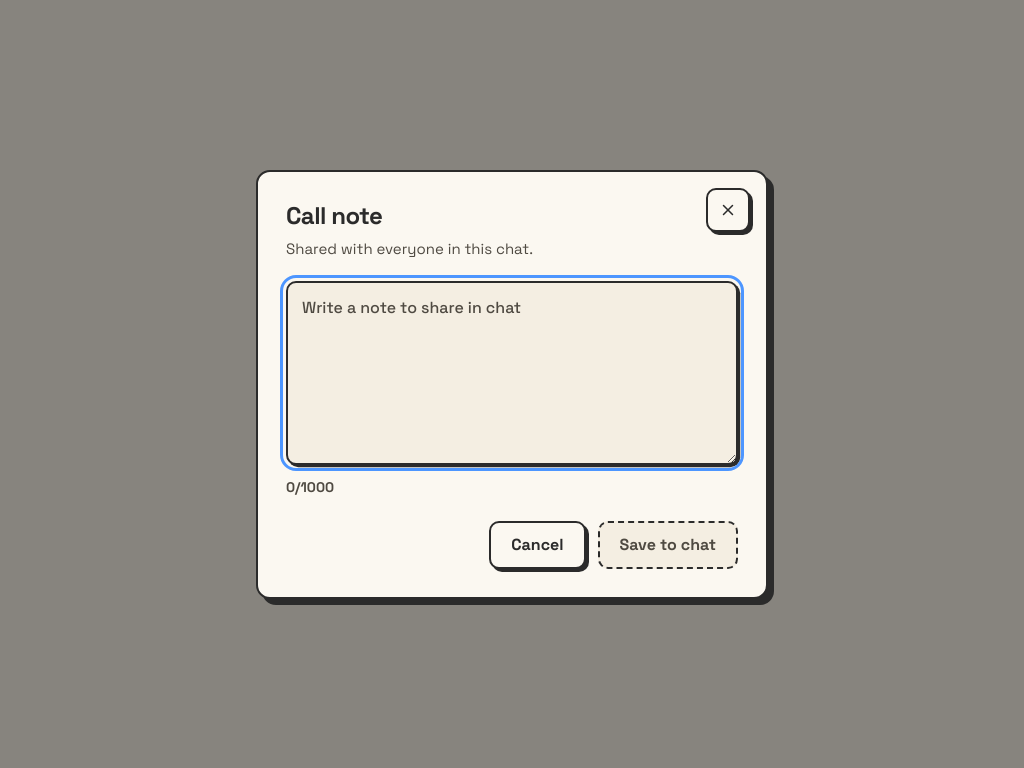
Test: CallNotePad › reports a failed save and keeps the text
The width and height of the screenshot is (1024, 768).
Type "keep me" into the text box labelled "note" at (512, 372), box top-left (286, 280), bottom-right (738, 464)
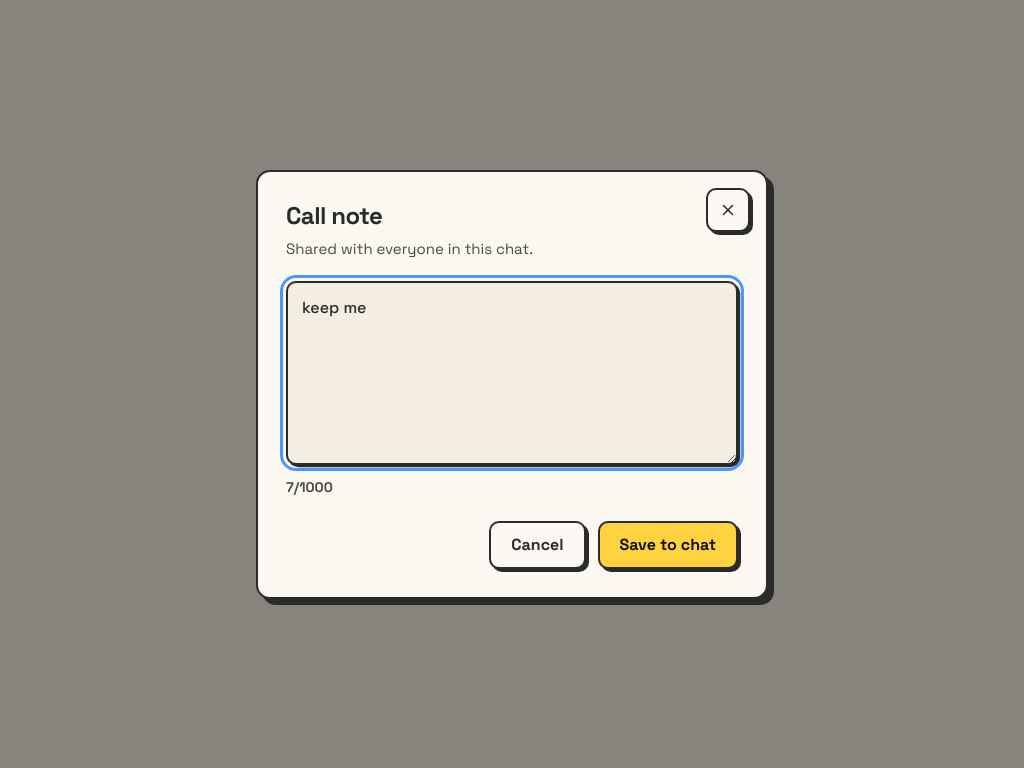
Click the button "Save to chat" at (668, 544), box top-left (598, 520), bottom-right (738, 568)
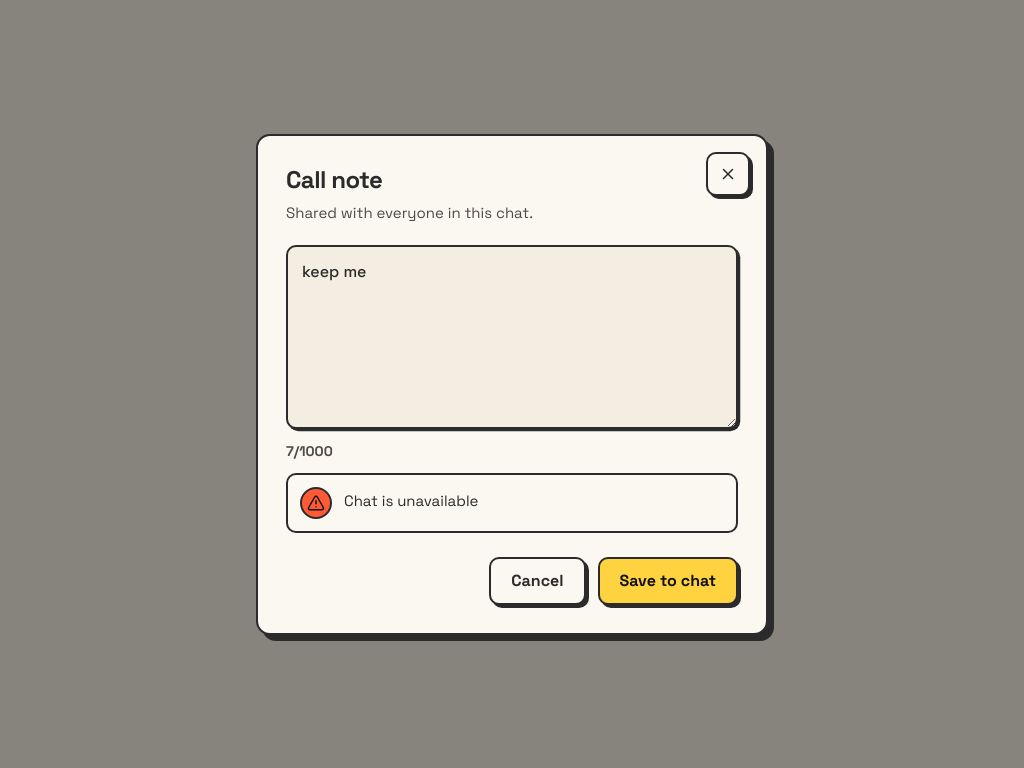
Check: the text "Chat is unavailable" is shown, box top-left (344, 490), bottom-right (478, 509)
